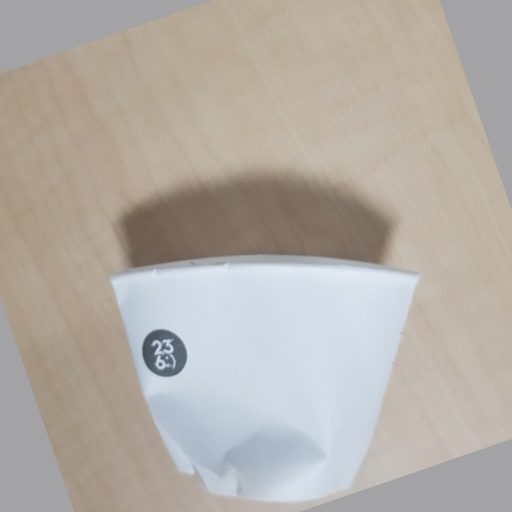Paper_1: (104, 250, 417, 500)
